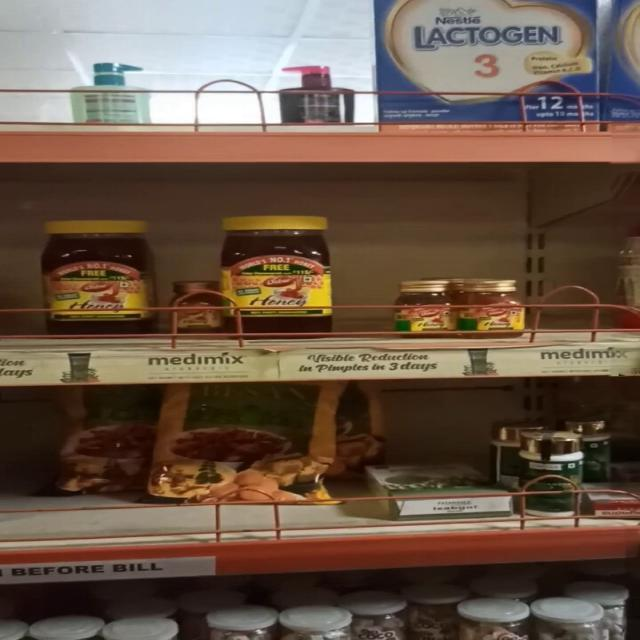Dabur Honey: (45, 215, 164, 338), (232, 212, 349, 335), (466, 276, 543, 340), (399, 278, 462, 342), (172, 279, 235, 335)
